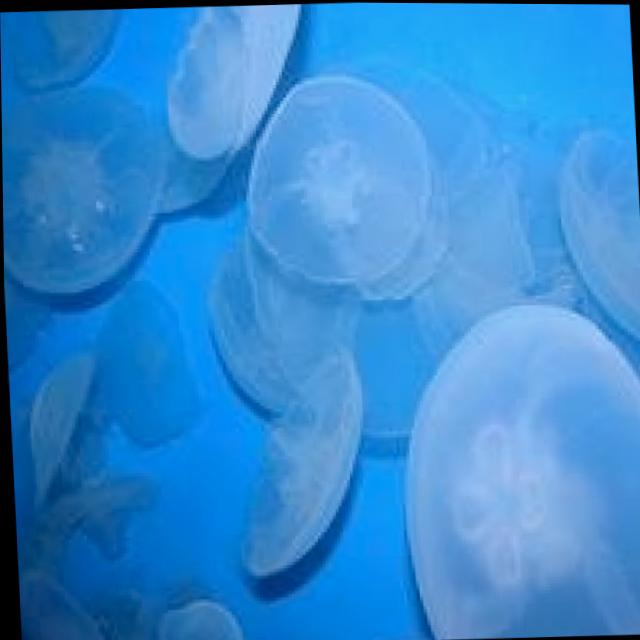Moon-jellyfish: (380, 292, 640, 640), (216, 53, 441, 311), (190, 315, 391, 594), (1, 72, 193, 329)
